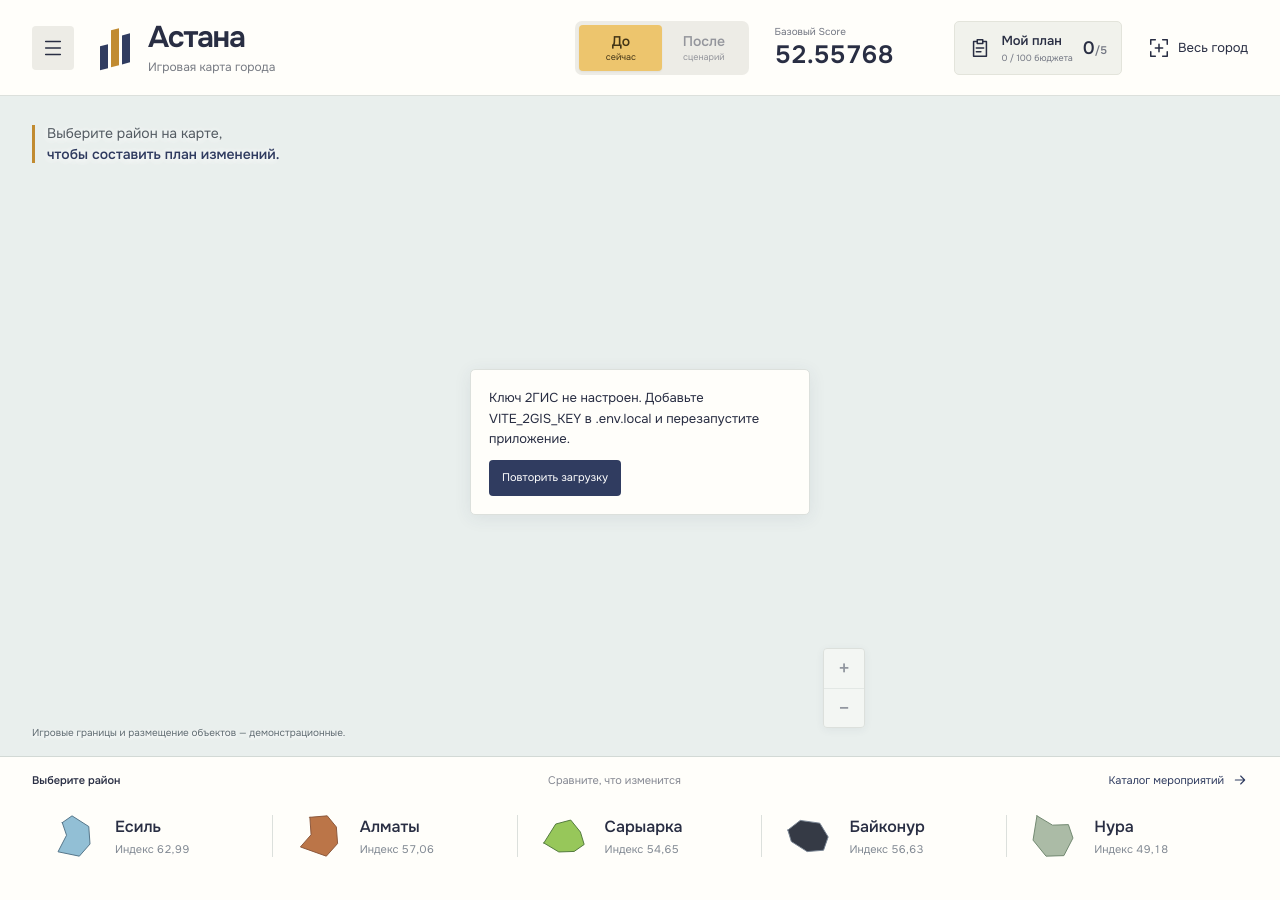
it: district and scenario planning without a working map › keeps catalog targeting in sync with list selection and its district selector
The image size is (1280, 900).
Click the button "Нура Индекс 49,18": click(1130, 836) [1011,800,1248,872]
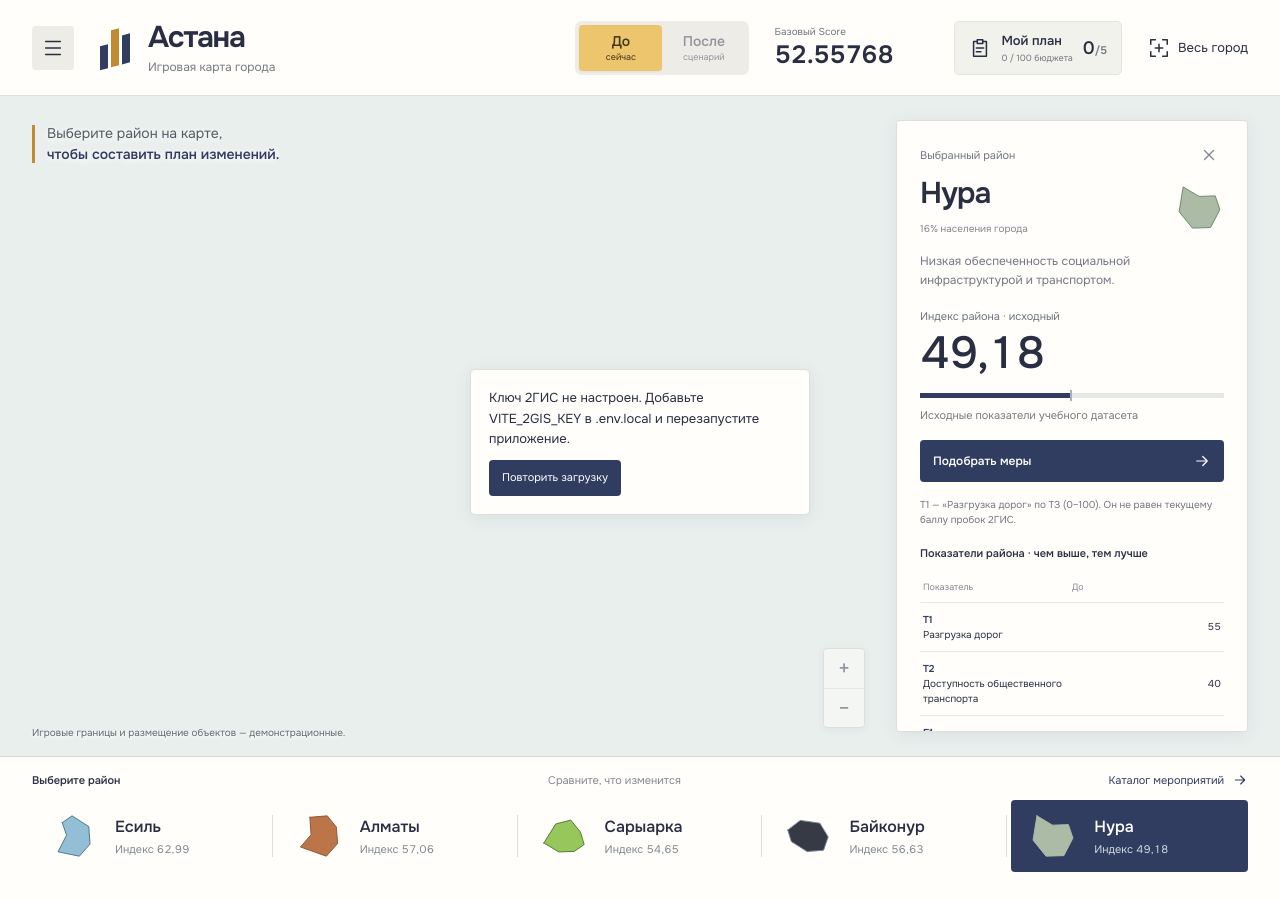
Click the button "Подобрать меры": click(982, 461) [920,440,1224,482]
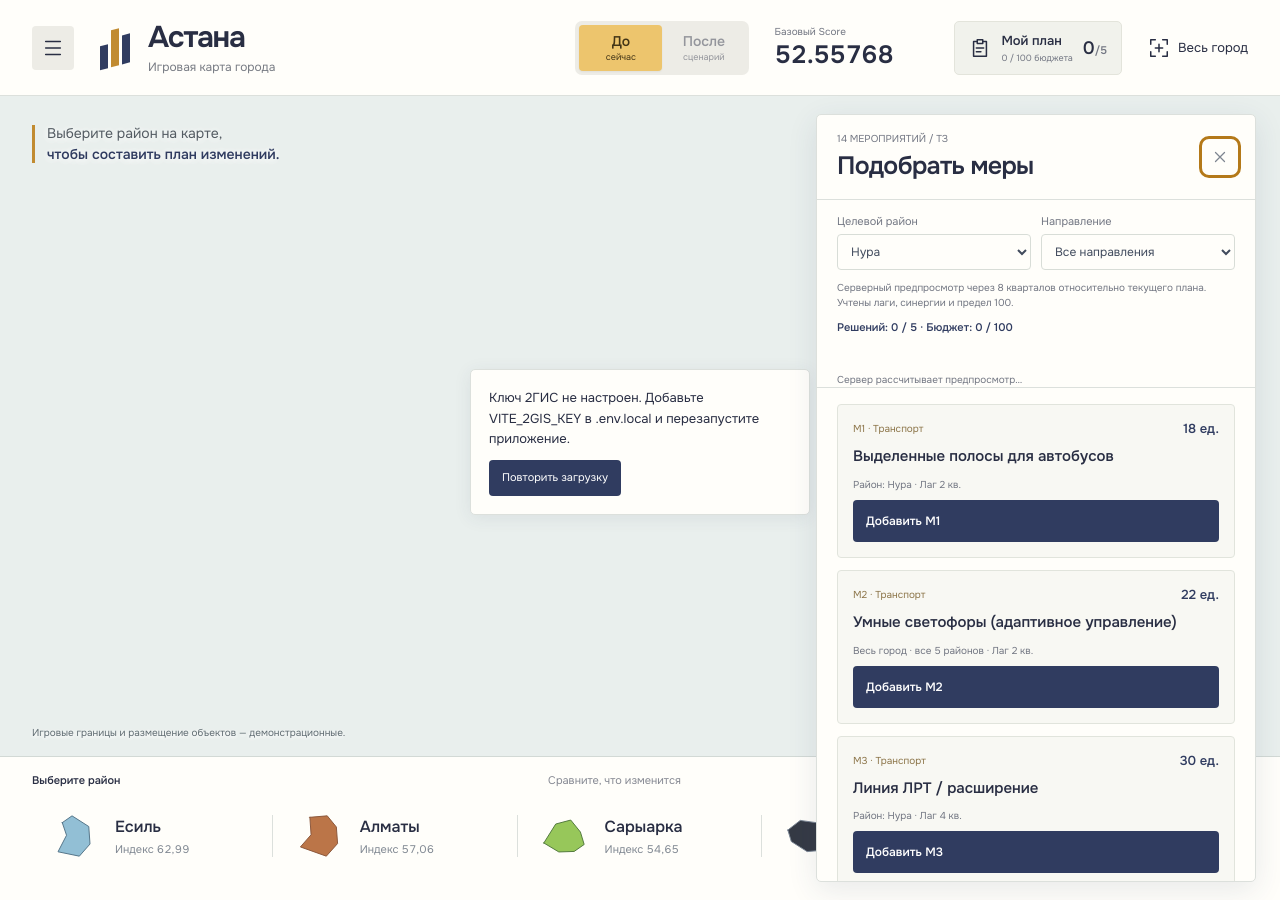
Click the button "Есиль Индекс 62,99": click(150, 836) [32,800,269,872]
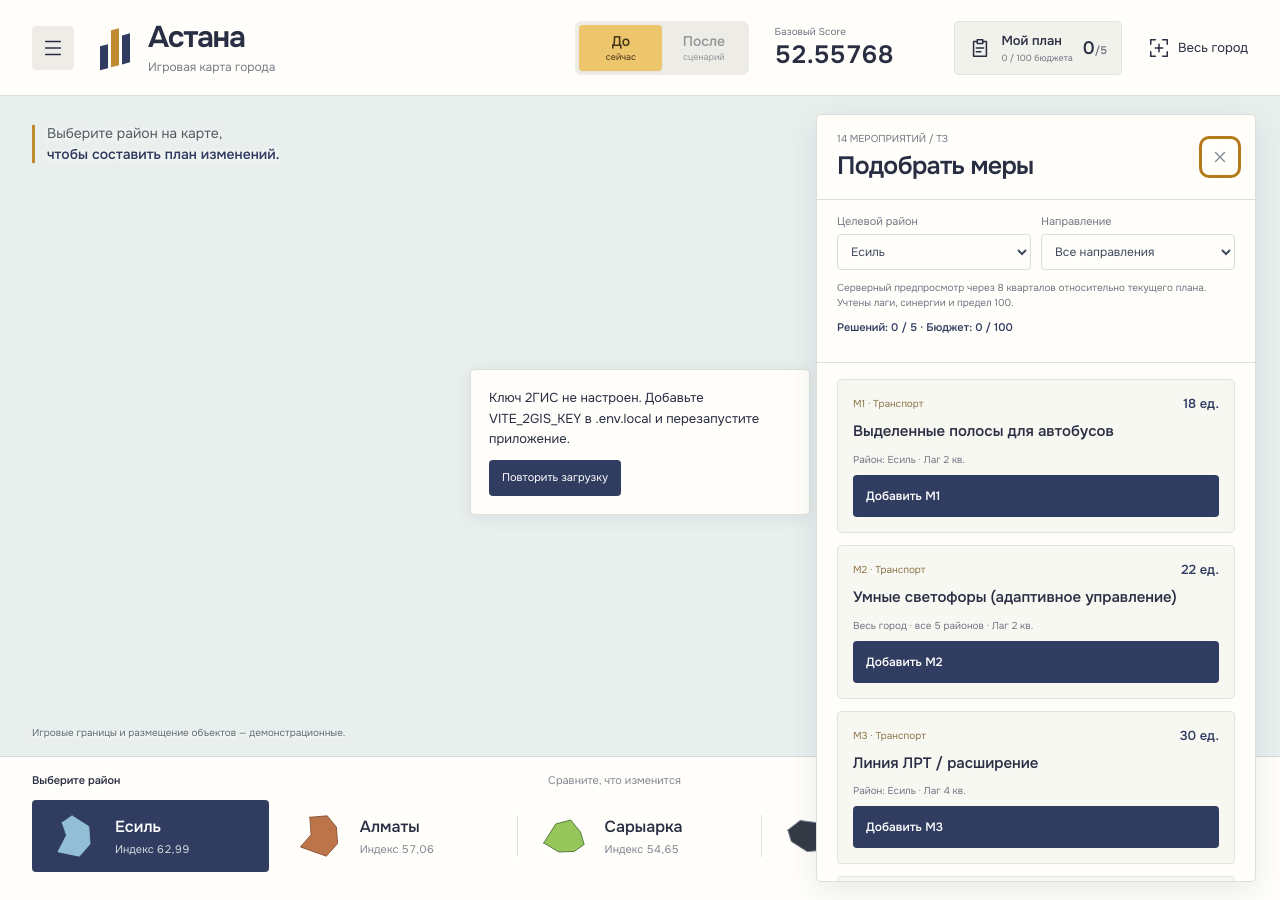
Now the dropdown labelled "Целевой район" shows "Есиль"
Select "Алматы" in the dropdown labelled "Целевой район": (934, 252) [837,234,1031,270]
(page scrolled)
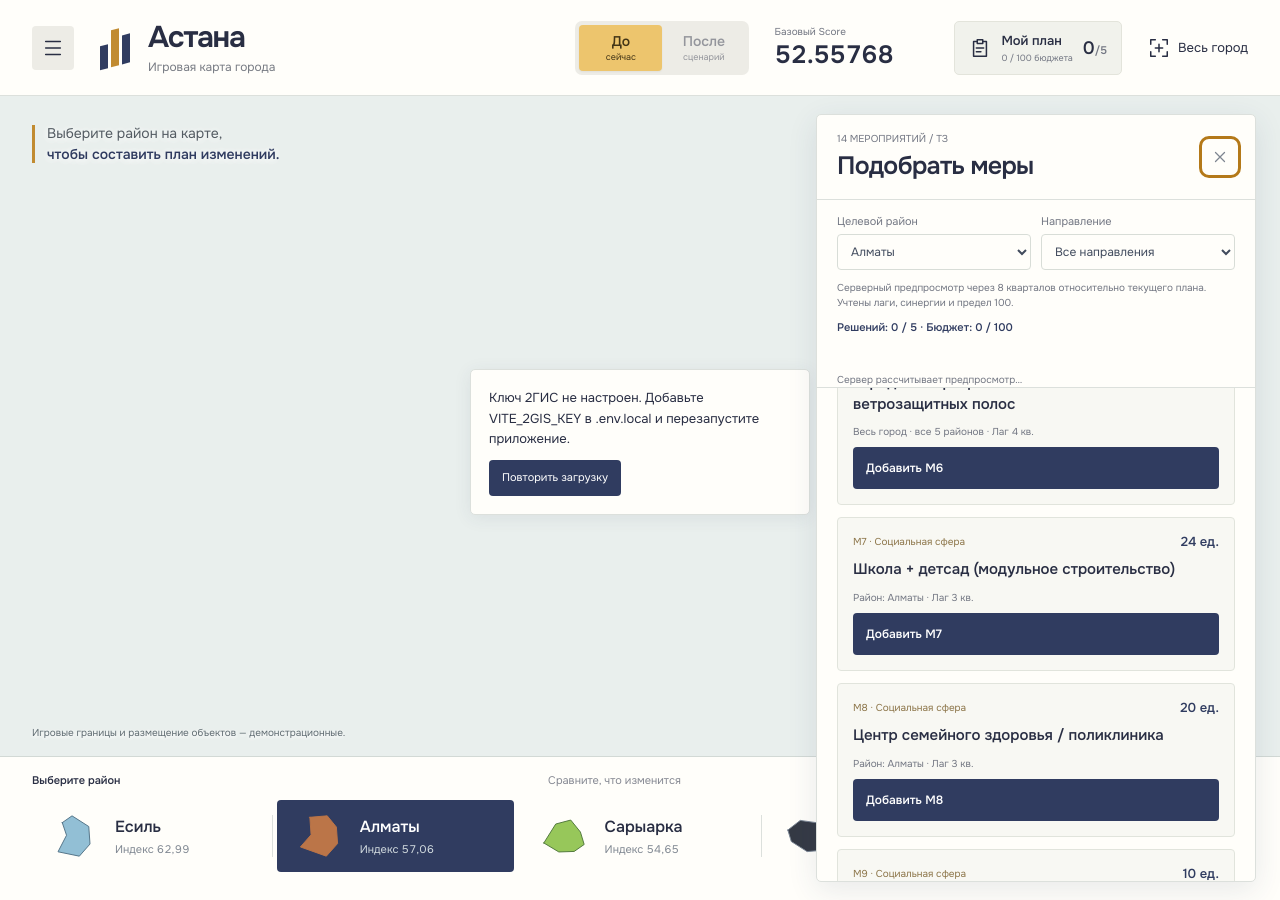
Click the button "Добавить M7": click(896, 634) [853,613,1219,655]
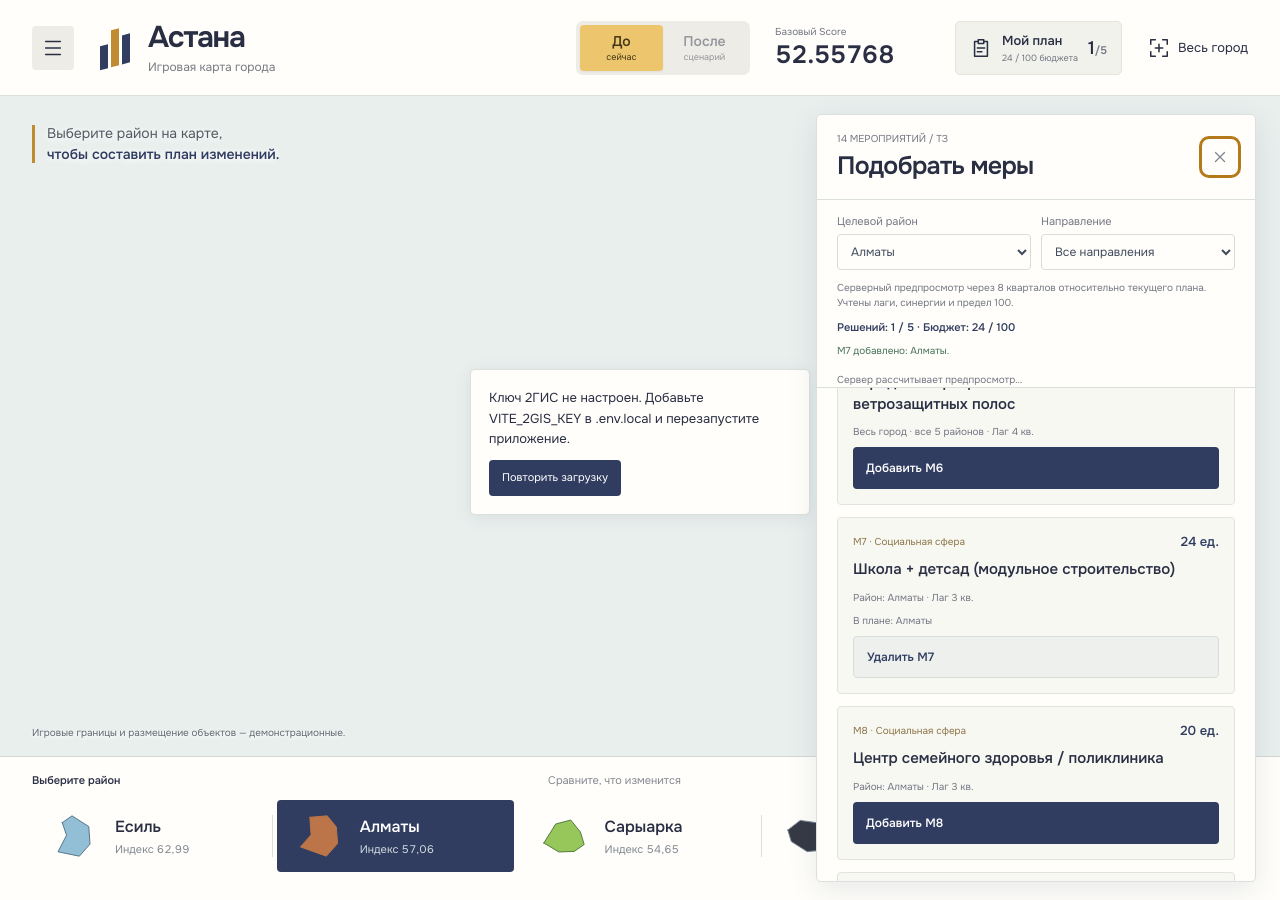
Click the button named "Закрыть каталог": click(1220, 157) [1205,142,1235,172]
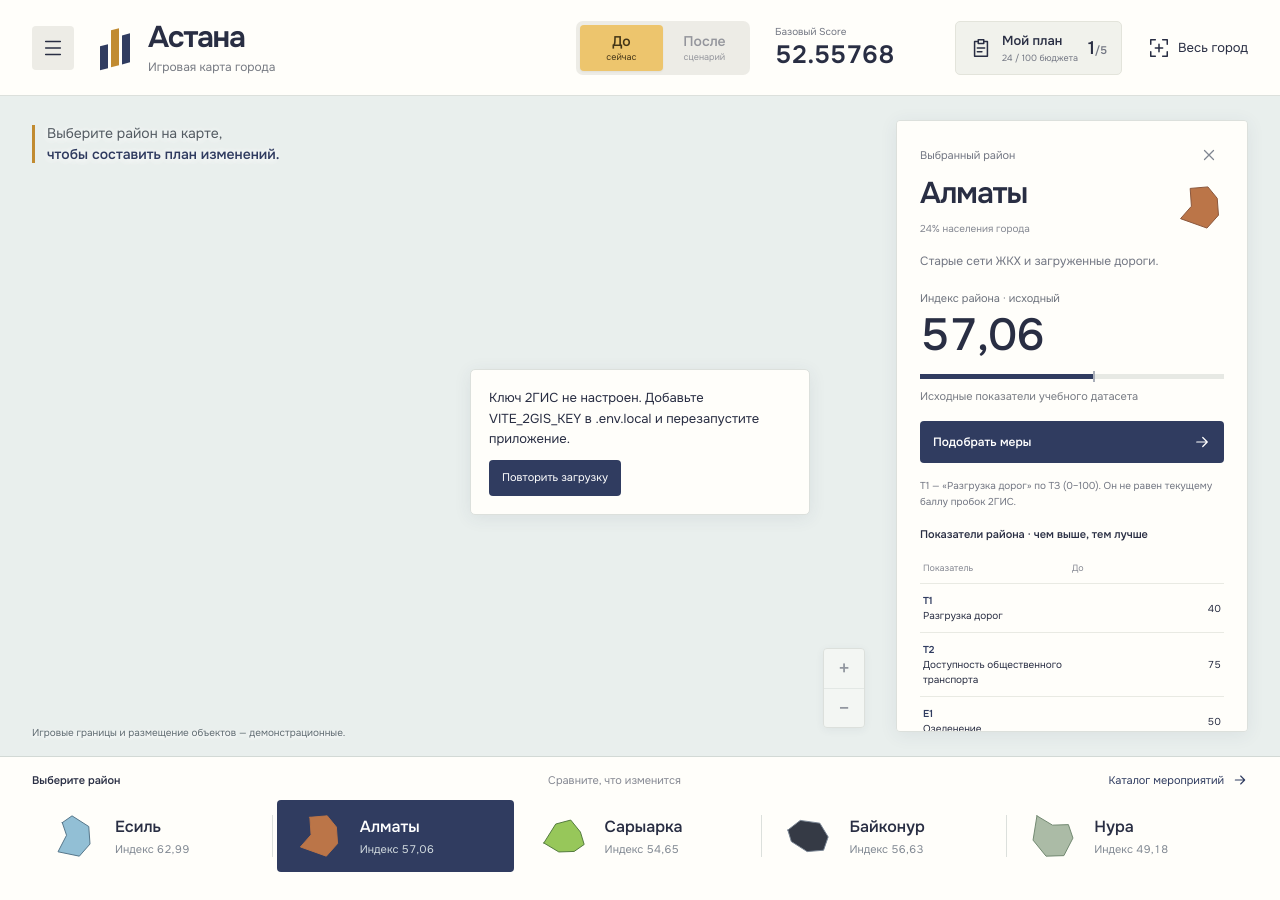
Now the element "Алматы" is shown, box [896,120,1248,732]
